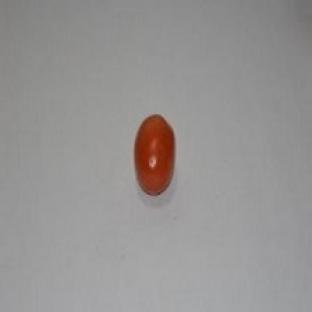Tomato: (134, 115, 175, 194)
